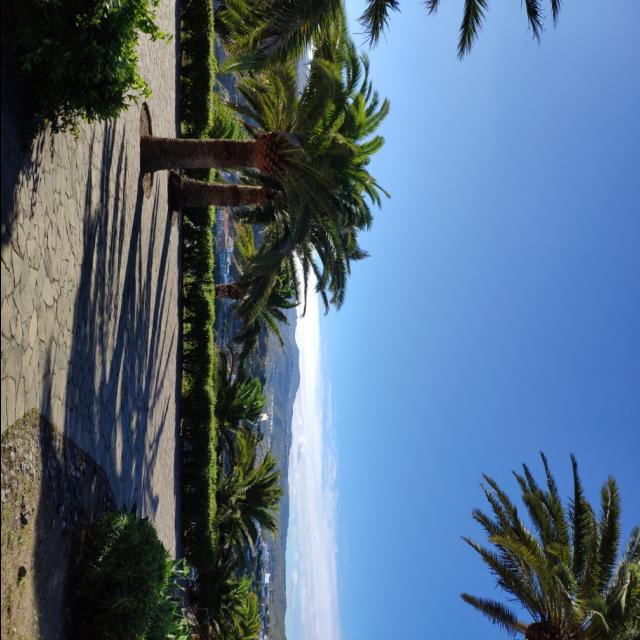Palm-Trees: (142, 31, 390, 283), (184, 224, 298, 358), (188, 444, 282, 554)
